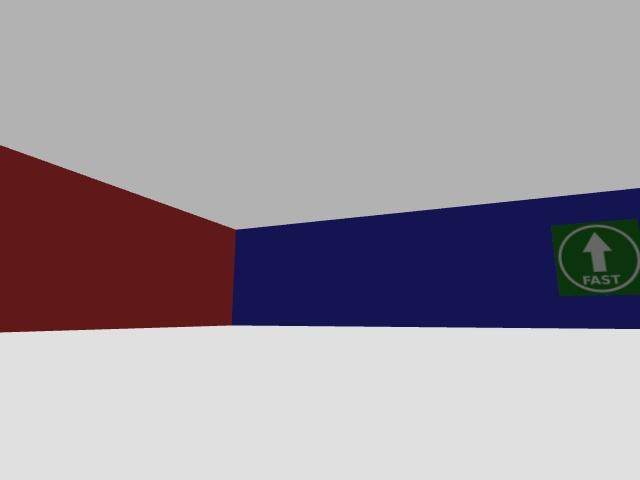fast: (552, 219, 639, 295)
